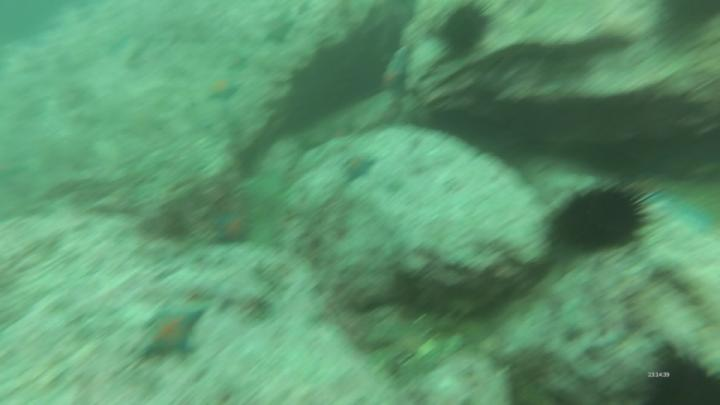echinus: (546, 180, 655, 255), (630, 343, 720, 405), (437, 4, 495, 56)
starfish: (140, 304, 207, 361), (206, 209, 259, 248), (380, 51, 411, 103), (337, 151, 381, 182), (207, 77, 241, 106), (265, 21, 294, 45)
